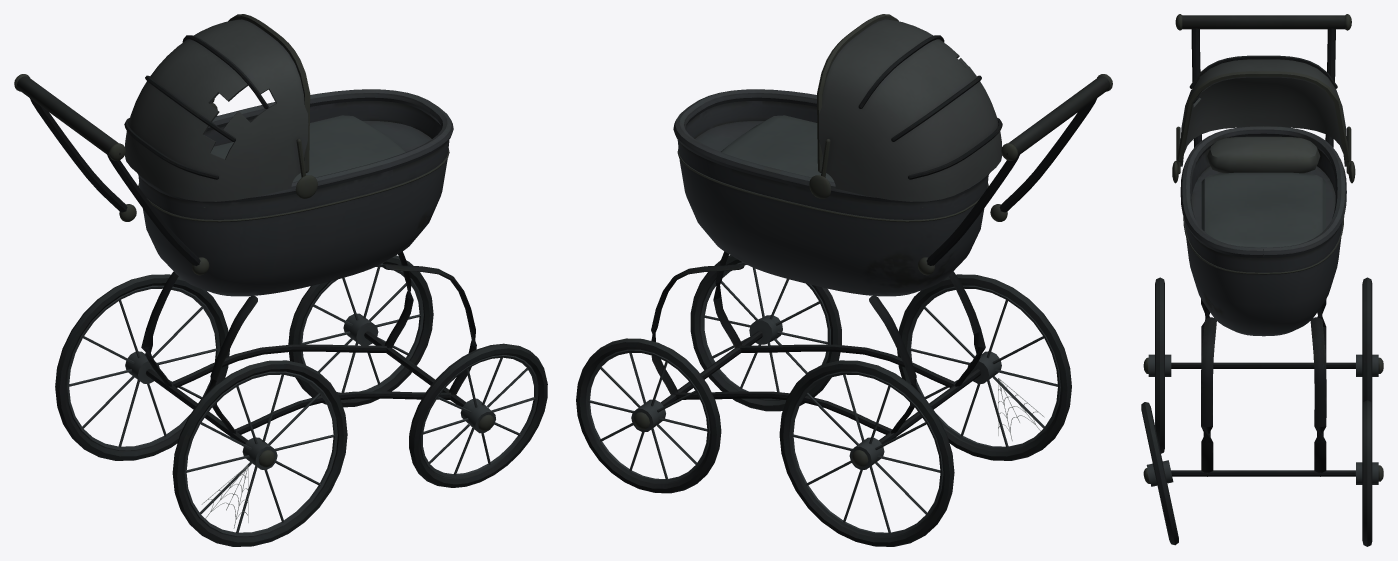
File: old-pram.glb
3 views of the same model, side by side, from view 1: azimuth 30°, elevation 25°; view 2: azimuth 150°, elevation 25°; view 3: azimuth 270°, elevation 25° (orthographic). The views are drawn at different scales.
Visible parts, largest first — view 1: old-pram_body, old-pram_hood; view 2: old-pram_body, old-pram_hood; view 3: old-pram_body, old-pram_hood.
Part boxes in pixels (x1,y1,x2,y2): old-pram_body: (14, 74, 547, 546); old-pram_hood: (124, 14, 310, 201); old-pram_body: (576, 74, 1112, 546); old-pram_hood: (817, 14, 1002, 201); old-pram_body: (1141, 14, 1383, 546); old-pram_hood: (1176, 55, 1351, 174).
Size of the model in its own units: 1.16 by 1.18 by 0.6435.
Materials: 3 (2 with a texture image).
